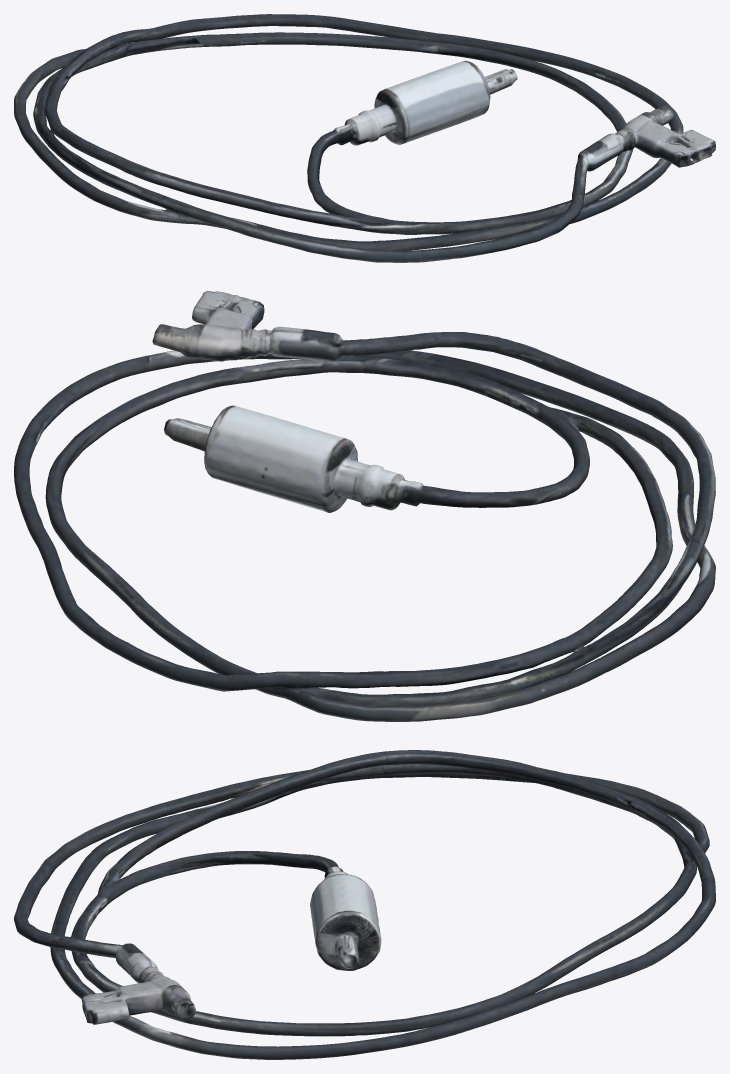
Rendered from 电源线.glb.
3 renders of one model, top to bottom at view 1: azimuth 30°, elevation 25°; view 2: azimuth 150°, elevation 25°; view 3: azimuth 270°, elevation 25°, orthographic. The views are drawn at different scales.
Size of the model in its own units: 1.95 by 0.2084 by 2.
1 material, 1 textured.
